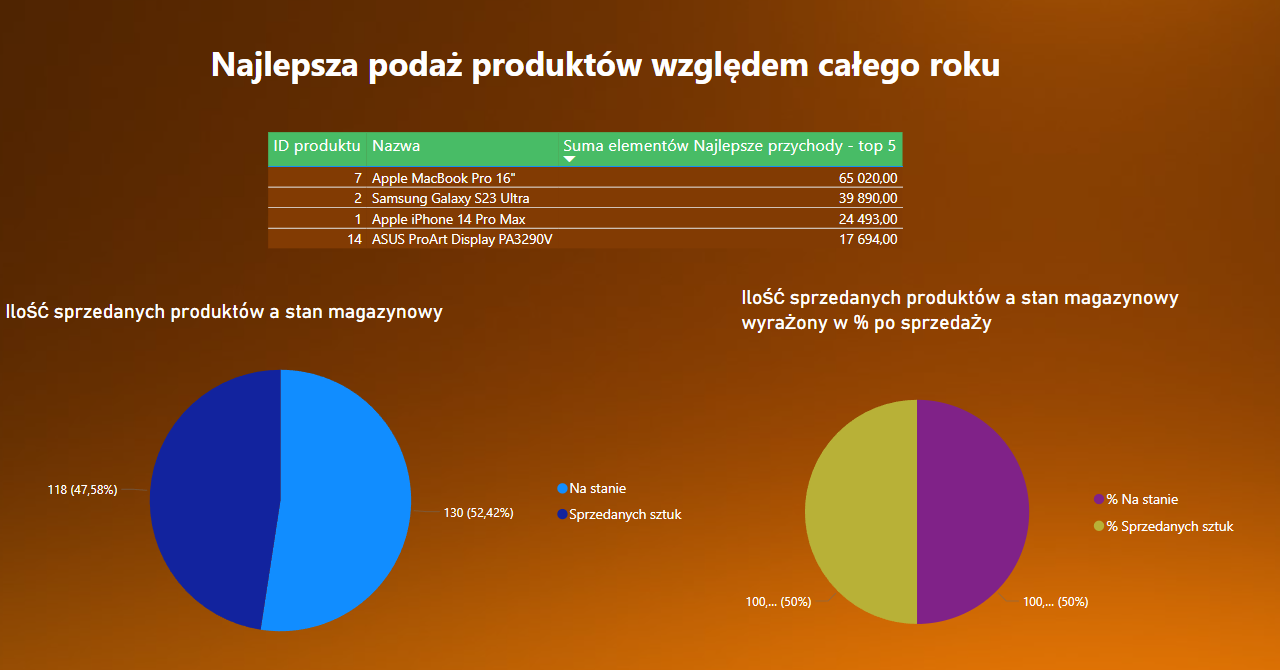

The dashboard page shown, as its layout file describes it:
{"tool":"powerbi","page":{"name":"Strona 7","canvas":[1280,720],"ordinal":6},"visuals":[{"type":"tableEx","fields":{"Values":["Największy przychód (5).ID produktu","Produkty.Nazwa ","Sum(Największy przychód (5).Najlepsze przychody - top 5)"]},"box":[273,143.1,681.1,142.2],"z":0},{"type":"textbox","box":[218.2,53.9,816.2,73.3],"z":1000},{"type":"pieChart","title":"Ilość sprzedanych produktów a stan magazynowy ","fields":{"Y":["Sum(Stan magazynowy.Ilość na stanie)","Sum(Zamówienia.Ilość sprzedanych sztuk)"]},"box":[18.6,309.2,677.5,371.9],"z":2000},{"type":"pieChart","title":"Ilość sprzedanych produktów a stan magazynowy wyrażony w % po sprzedaży","fields":{"Y":["Sum(Stan magazynowy.Ilość na stanie)","Sum(Zamówienia.Ilość sprzedanych sztuk)"]},"box":[734.1,295.9,498.2,399.3],"z":3000}]}

Visuals, with their boxes on the page's 1280x720 design canvas (x1, y1, x2, y2). These are canvas units, not pixel positions in the 1280x670 screenshot, which may show the page scaled, cropped or inside an application window:
tableEx - Największy przychód (5).ID produktu x Produkty.Nazwa : crop(273, 143, 954, 285)
textbox: crop(218, 54, 1034, 127)
"Ilość sprzedanych produktów a stan magazynowy " pieChart: crop(19, 309, 696, 681)
"Ilość sprzedanych produktów a stan magazynowy wyrażony w % po sprzedaży" pieChart: crop(734, 296, 1232, 695)
